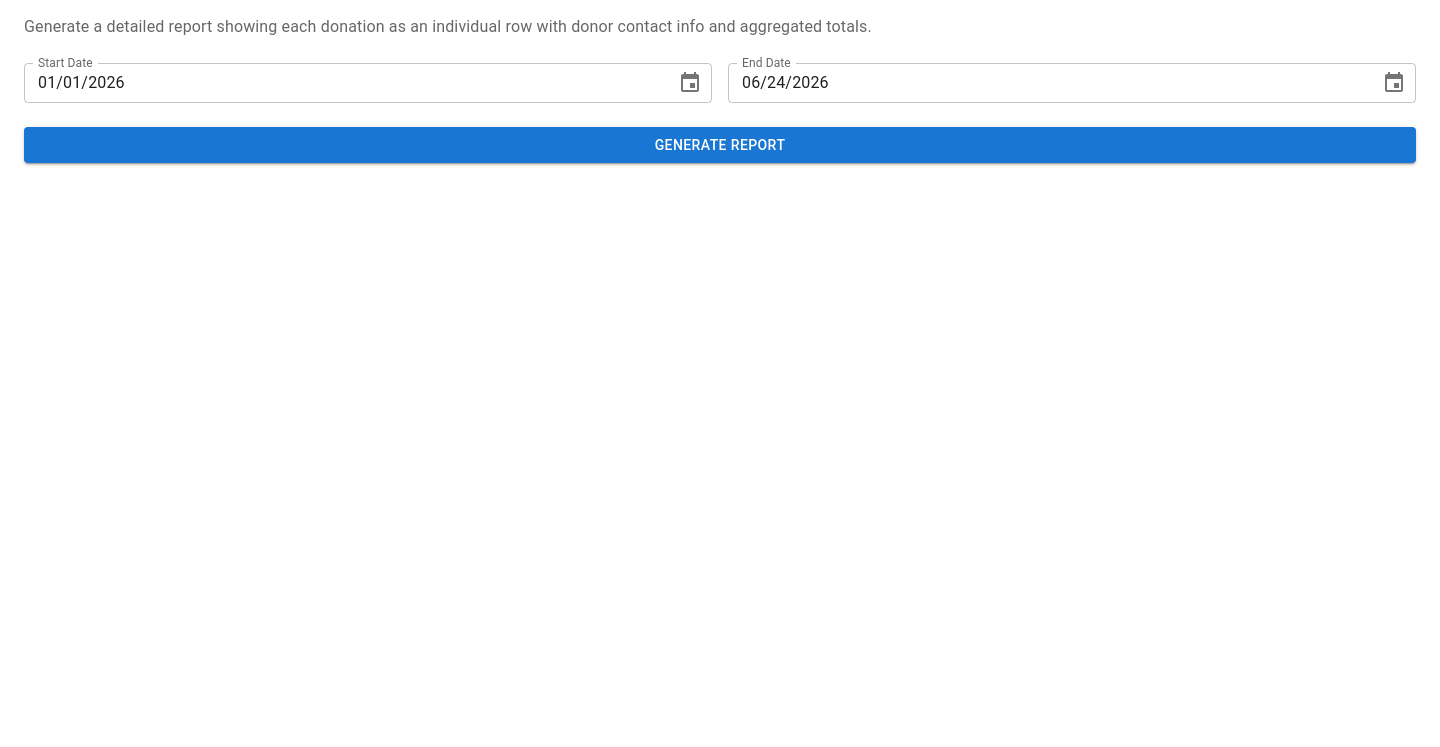
Test case: ReportsPage › displays project summary section with period and all-time totals
Click the button "Generate Report": (720, 145) [24,127,1416,163]
(page scrolled)
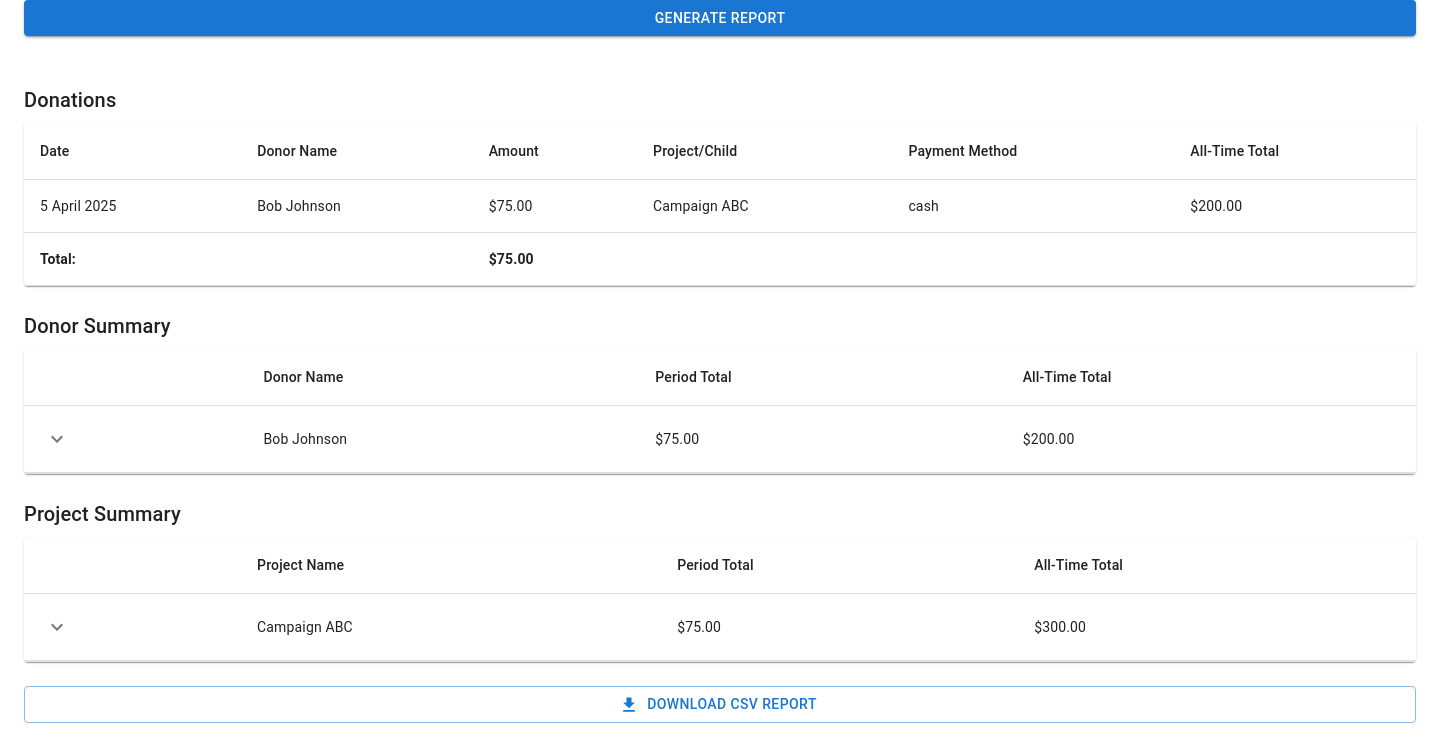
Check: the heading "Project Summary" is shown, box [24,502,181,526]
Check: the text "Campaign ABC" in the row of "5 April 2025" is shown, box [653,198,749,214]
Check: the text "$75.00" in the row of "5 April 2025" is shown, box [489,198,532,214]
